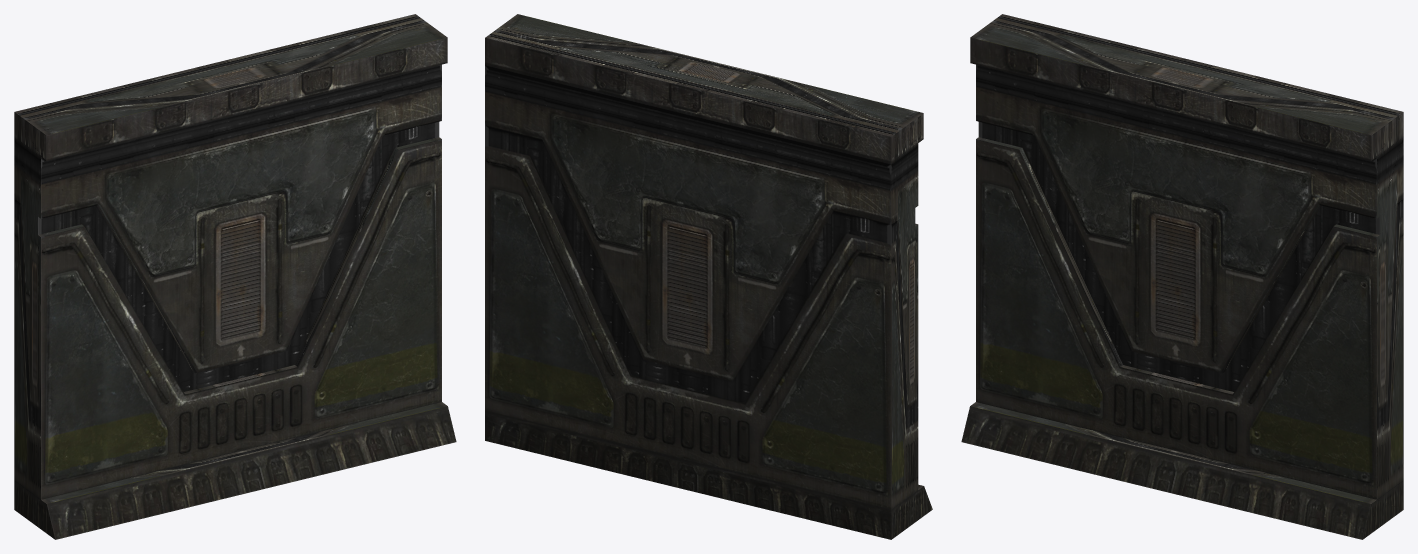
Rendered from wall.fbx.
3 views of the same model, side by side, from view 1: azimuth 30°, elevation 25°; view 2: azimuth 150°, elevation 25°; view 3: azimuth 330°, elevation 25° (orthographic).
Visible parts, largest first — view 1: Box001; view 2: Box001; view 3: Box001.
Part boxes in pixels (x1,y1,x2,y2): Box001: [14, 14, 456, 539]; Box001: [485, 14, 932, 539]; Box001: [961, 14, 1403, 539].
Size of the model in its own units: 192 by 182 by 33.99.
